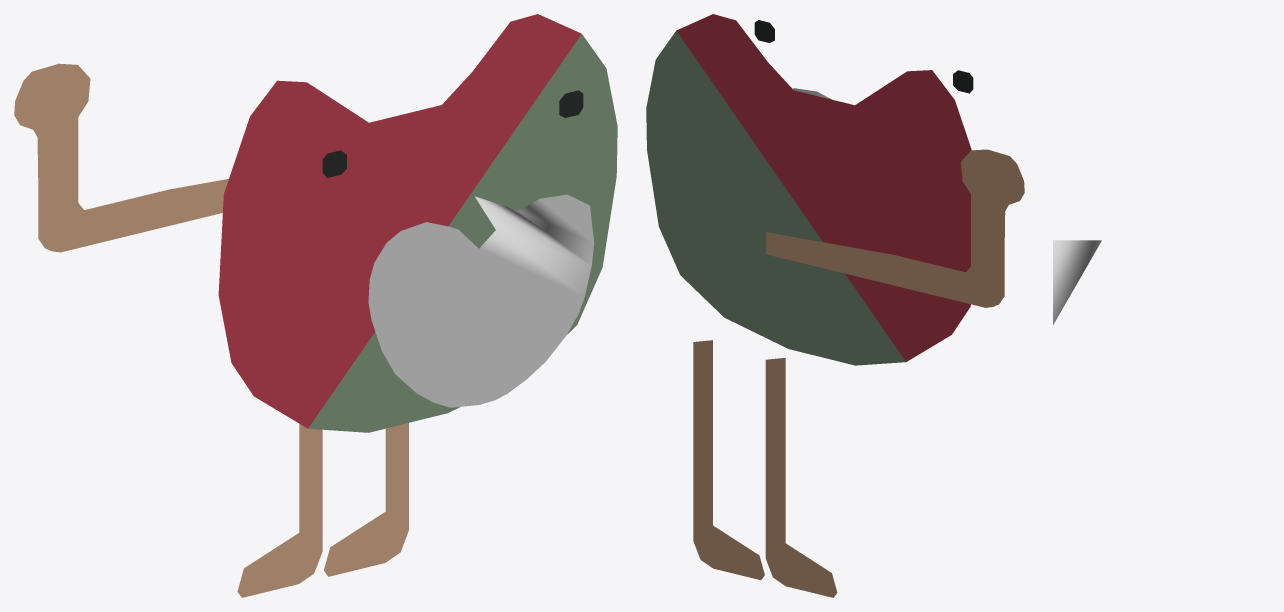
Rendered from file_haha.fbx.
The picture shows the model from 3 angles, left to right: view 1: azimuth 30°, elevation 25°; view 2: azimuth 150°, elevation 25°; view 3: azimuth 270°, elevation 25°; orthographic projection. The views are drawn at different scales.
Visible parts, largest first — view 1: polySurface4; view 2: polySurface4; view 3: polySurface4.
Boxes of the visible parts, <box> form: polySurface4: <box>14,14,617,597</box>; polySurface4: <box>646,14,1024,597</box>; polySurface4: <box>1053,240,1101,324</box>.
Size of the model in its own units: 1.66 by 1.76 by 0.7588.
